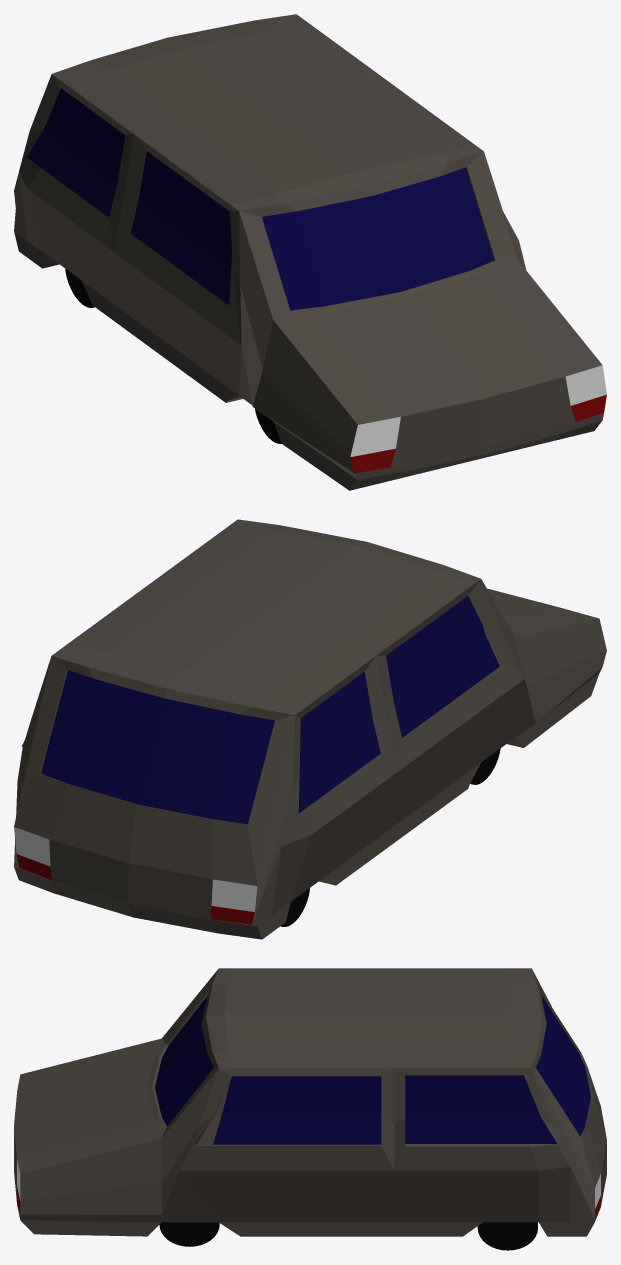
File: car.fbx
3 renders of one model, top to bottom at view 1: azimuth 30°, elevation 25°; view 2: azimuth 150°, elevation 25°; view 3: azimuth 270°, elevation 25°, orthographic. The views are drawn at different scales.
Visible parts, largest first — view 1: Cylinder.001; view 2: Cylinder.001; view 3: Cylinder.001.
Boxes of the visible parts, x1,y1,x2,y2 form: Cylinder.001: (14,14,606,490); Cylinder.001: (14,519,606,939); Cylinder.001: (14,968,606,1250).
Size of the model in its own units: 2.94 by 2.27 by 6.32.
